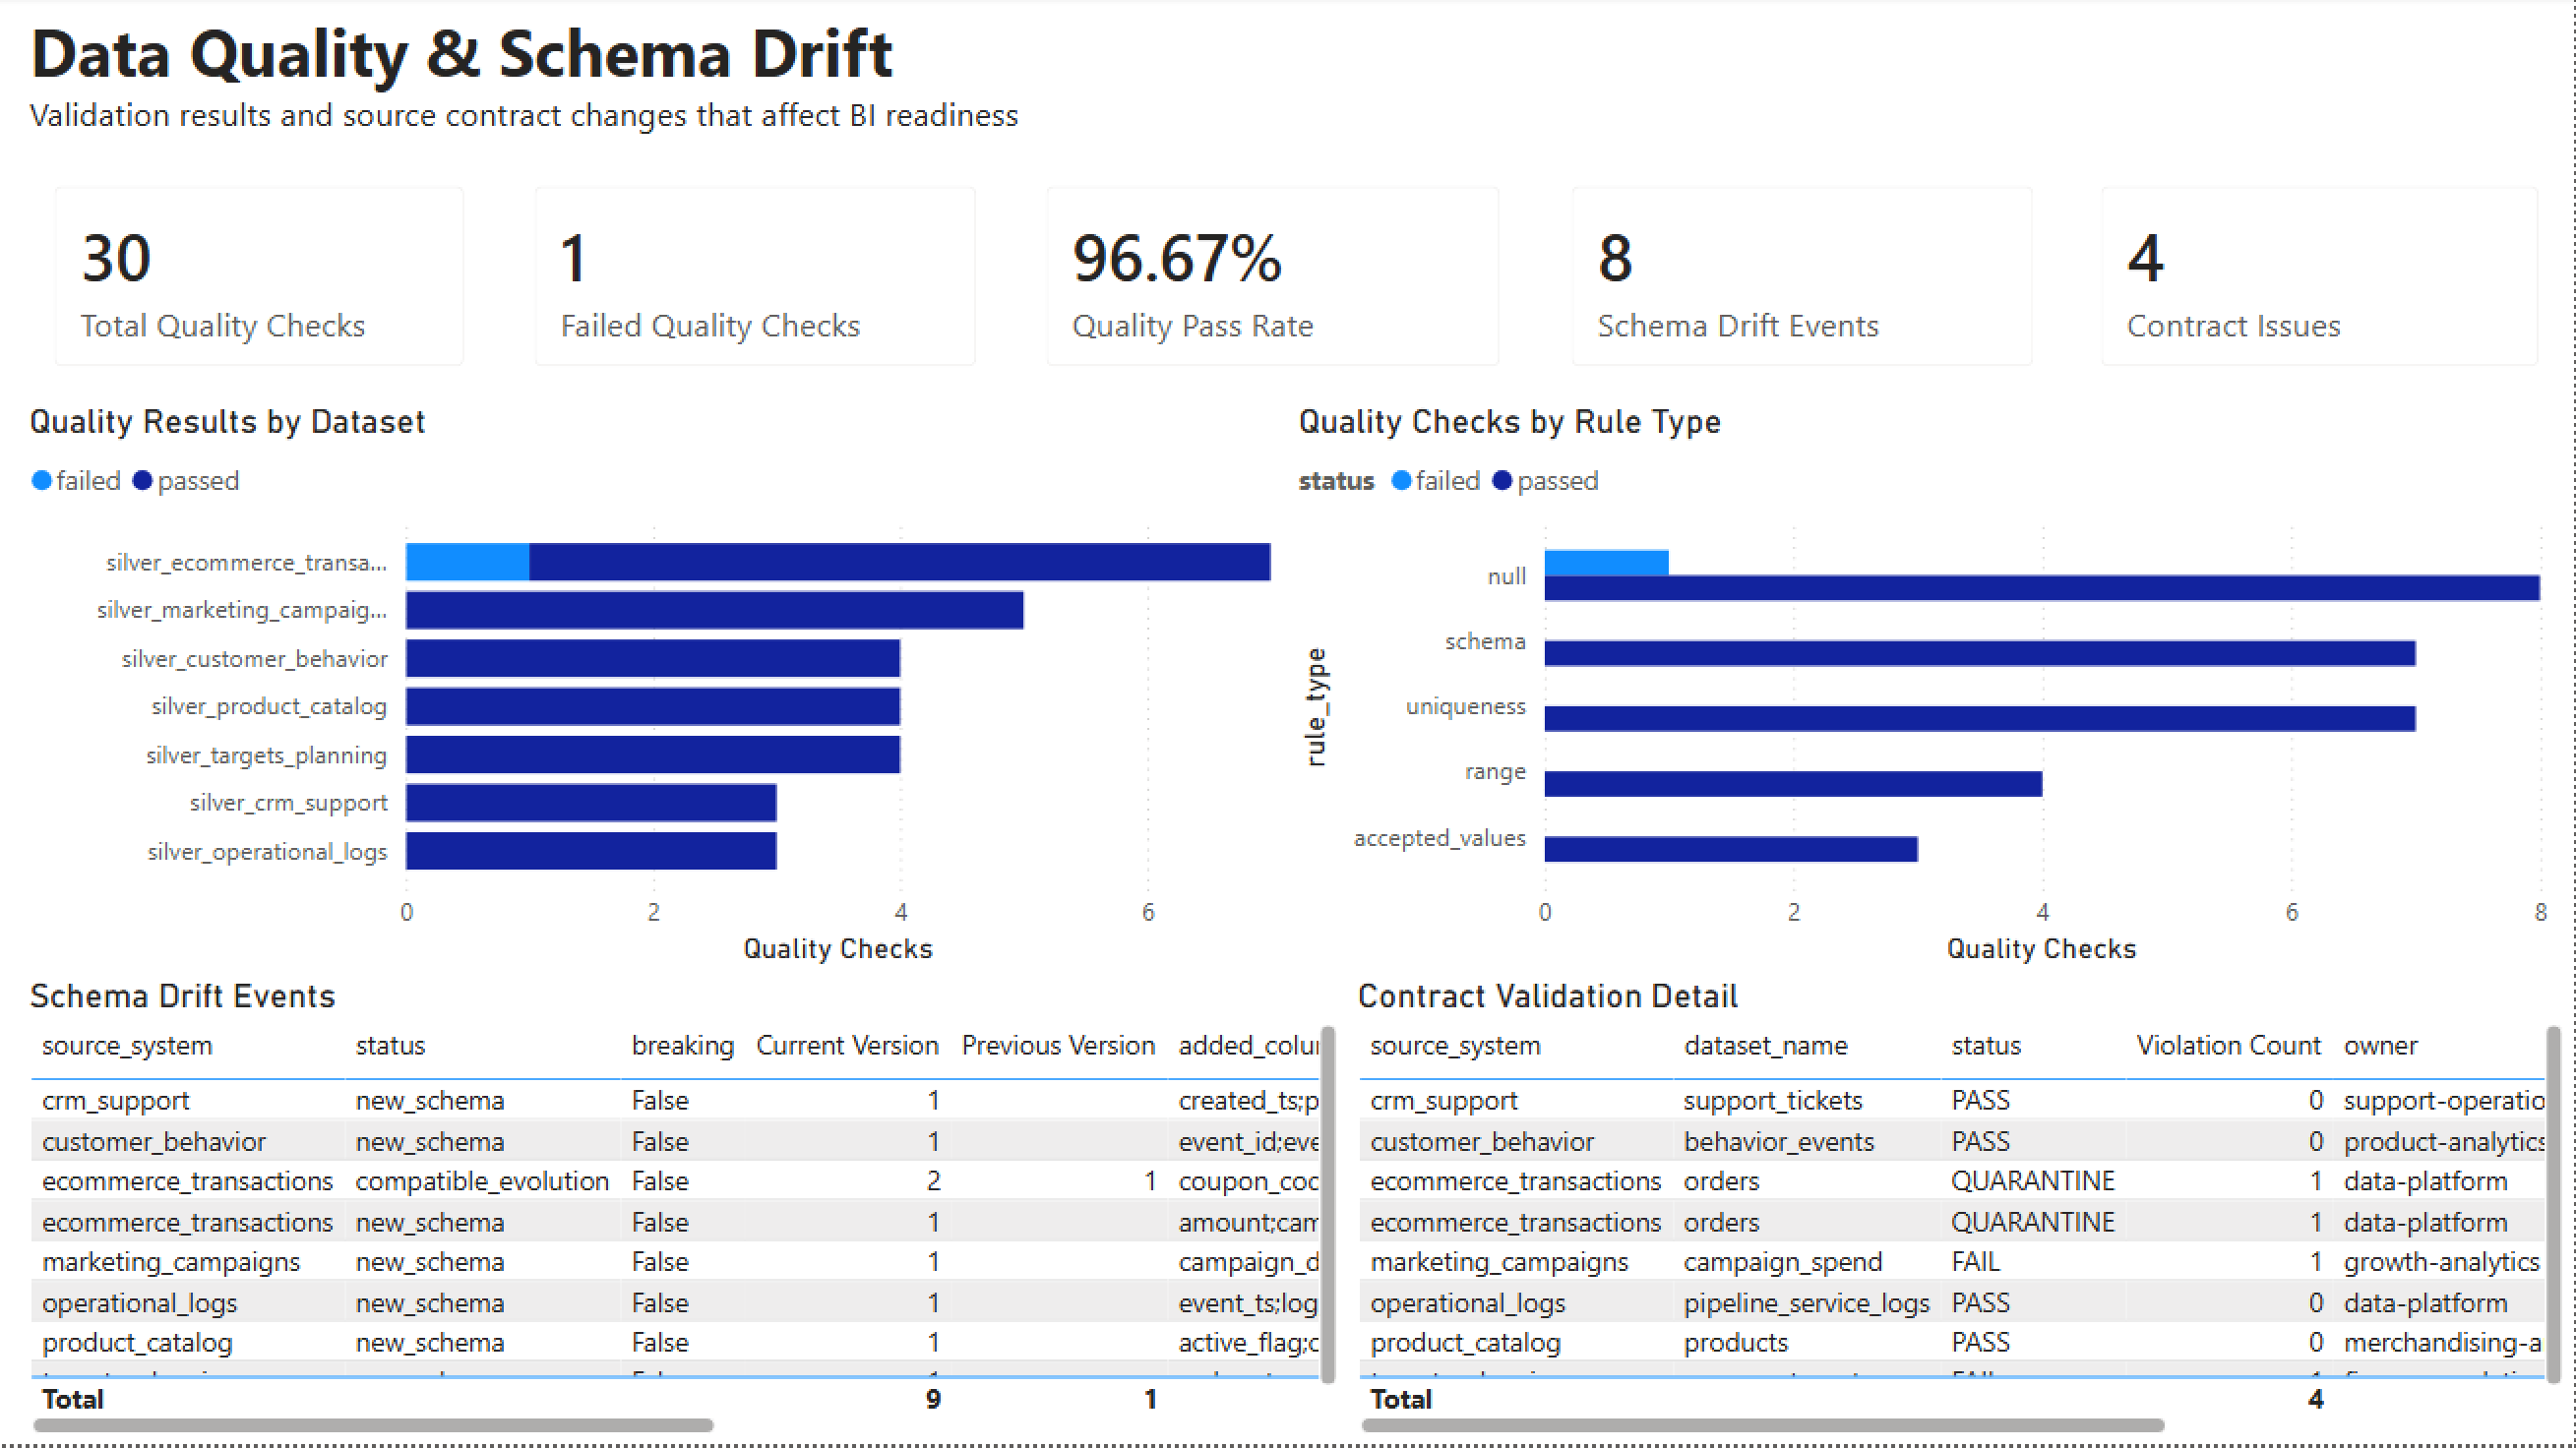

What the dashboard file says about the page in this screenshot:
{"tool":"powerbi","page":{"name":"Data Quality & Schema Drift","canvas":[1280,720],"ordinal":2},"visuals":[{"type":"textbox","box":[9.5,0,1270.5,77.4],"z":0},{"type":"cardVisual","fields":{"Data":["CountNonNull(data_quality_results.check_name)"]},"box":[9.5,77.4,238.6,124.1],"z":1000},{"type":"cardVisual","fields":{"Data":["data_quality_results.Failed Quality Checks"]},"box":[248.2,77.4,254.5,124.1],"z":2000},{"type":"cardVisual","fields":{"Data":["CountNonNull(schema_drift_events.source_system)"]},"box":[763.5,77.4,264.1,124.1],"z":3000},{"type":"cardVisual","fields":{"Data":["data_quality_results.Quality Pass Rate"]},"box":[502.7,77.4,260.9,124.1],"z":4000},{"type":"cardVisual","fields":{"Data":["Sum(contract_validations.violation_count)"]},"box":[1027.6,77.4,252.4,124.1],"z":5000},{"type":"barChart","title":"Quality Results by Dataset","fields":{"Category":["data_quality_results.dataset_name"],"Y":["CountNonNull(data_quality_results.check_name)"],"Series":["data_quality_results.status"]},"box":[9.5,201.5,631,285.3],"z":6000},{"type":"clusteredBarChart","title":"Quality Checks by Rule Type","fields":{"Category":["data_quality_results.rule_type"],"Y":["CountNonNull(data_quality_results.check_name)"],"Series":["data_quality_results.status"]},"box":[640.5,201.5,631,285.3],"z":7000},{"type":"tableEx","title":"Schema Drift Events","fields":{"Values":["schema_drift_events.source_system","schema_drift_events.status","schema_drift_events.breaking","Sum(schema_drift_events.current_version)","Sum(schema_drift_events.previous_version)","schema_drift_events.added_columns","schema_drift_events.detected_at"]},"box":[9.8,487.2,660.3,232.8],"z":8000},{"type":"tableEx","title":"Contract Validation Detail","fields":{"Values":["contract_validations.source_system","contract_validations.dataset_name","contract_validations.status","Sum(contract_validations.violation_count)","contract_validations.owner","contract_validations.criticality_tier","contract_validations.validated_at"]},"box":[670.1,487.2,609.5,232.8],"z":9000}]}

Visuals, with their boxes in screenshot pixels (x1, y1, x2, y2), scaled from the page's 1280x720 canvas onto the 2576x1448 screenshot:
textbox: box=[19, 0, 2575, 155]
cardVisual - CountNonNull(data_quality_results.check_name): box=[19, 155, 499, 405]
cardVisual - data_quality_results.Failed Quality Checks: box=[500, 155, 1012, 405]
cardVisual - CountNonNull(schema_drift_events.source_system): box=[1537, 155, 2068, 405]
cardVisual - data_quality_results.Quality Pass Rate: box=[1012, 155, 1537, 405]
cardVisual - Sum(contract_validations.violation_count): box=[2068, 155, 2575, 405]
"Quality Results by Dataset" barChart: box=[19, 405, 1289, 979]
"Quality Checks by Rule Type" clusteredBarChart: box=[1289, 405, 2559, 979]
"Schema Drift Events" tableEx: box=[20, 980, 1349, 1447]
"Contract Validation Detail" tableEx: box=[1349, 980, 2575, 1447]
